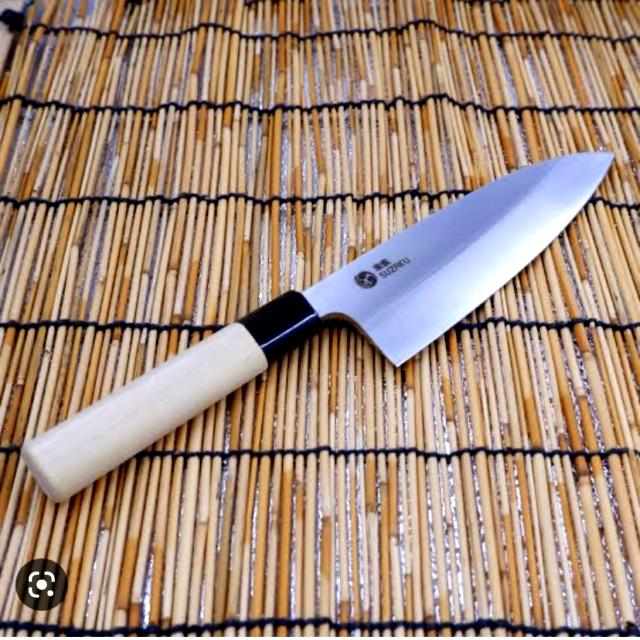knife: (5, 85, 628, 506)
